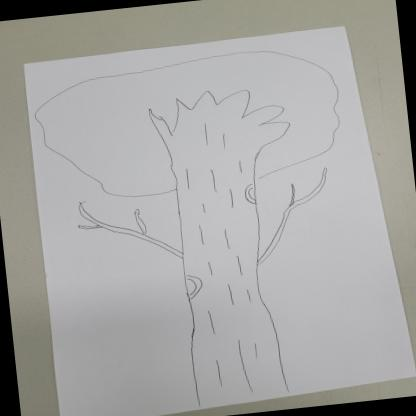branch_sharp: (142, 84, 296, 162)
crown_mushroom: (30, 41, 350, 206)
knot: (182, 268, 206, 303), (238, 178, 262, 207)
trunk_bark: (173, 208, 281, 346)
